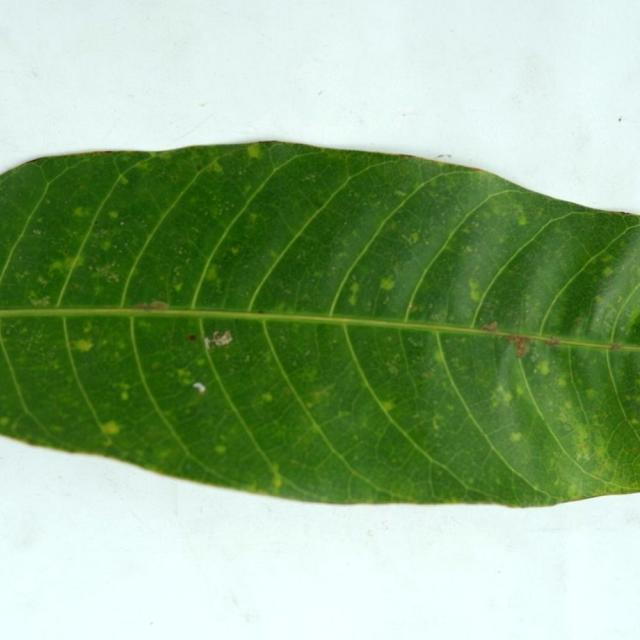Mango: (0, 141, 639, 505)
Powdery_Mildew: (25, 234, 130, 302), (335, 266, 402, 312), (209, 242, 248, 276), (193, 328, 234, 349), (96, 417, 127, 441), (504, 333, 533, 358), (343, 279, 363, 307), (492, 383, 512, 405), (175, 368, 195, 386), (573, 424, 590, 445), (72, 338, 94, 352), (203, 264, 219, 283), (28, 295, 52, 307), (269, 468, 283, 488), (535, 359, 550, 376), (48, 259, 65, 274), (433, 347, 447, 365), (246, 144, 262, 159), (72, 205, 90, 218), (379, 277, 395, 291), (557, 410, 572, 424), (308, 421, 324, 434), (64, 256, 78, 270), (210, 160, 224, 174), (431, 415, 444, 430), (481, 321, 498, 332), (386, 362, 399, 376), (380, 400, 395, 412), (576, 449, 591, 461), (172, 266, 184, 281), (192, 382, 206, 394), (469, 289, 481, 302), (509, 432, 523, 443), (336, 410, 351, 420), (100, 239, 112, 251), (348, 282, 359, 295), (600, 254, 615, 263), (545, 337, 560, 346), (408, 232, 419, 244), (602, 266, 614, 277), (517, 214, 528, 226), (568, 483, 579, 495), (248, 212, 259, 223), (515, 384, 525, 396), (585, 389, 597, 399), (262, 392, 273, 402), (557, 377, 567, 388), (172, 282, 183, 292), (118, 175, 129, 185), (195, 357, 206, 367), (214, 445, 226, 454), (107, 210, 119, 219), (572, 317, 585, 325), (610, 343, 622, 351), (394, 190, 407, 197), (120, 391, 129, 401), (230, 246, 240, 255), (0, 417, 9, 426), (594, 295, 603, 303), (188, 334, 197, 342), (464, 245, 473, 253), (32, 229, 42, 235), (616, 295, 623, 303), (635, 418, 640, 426)
